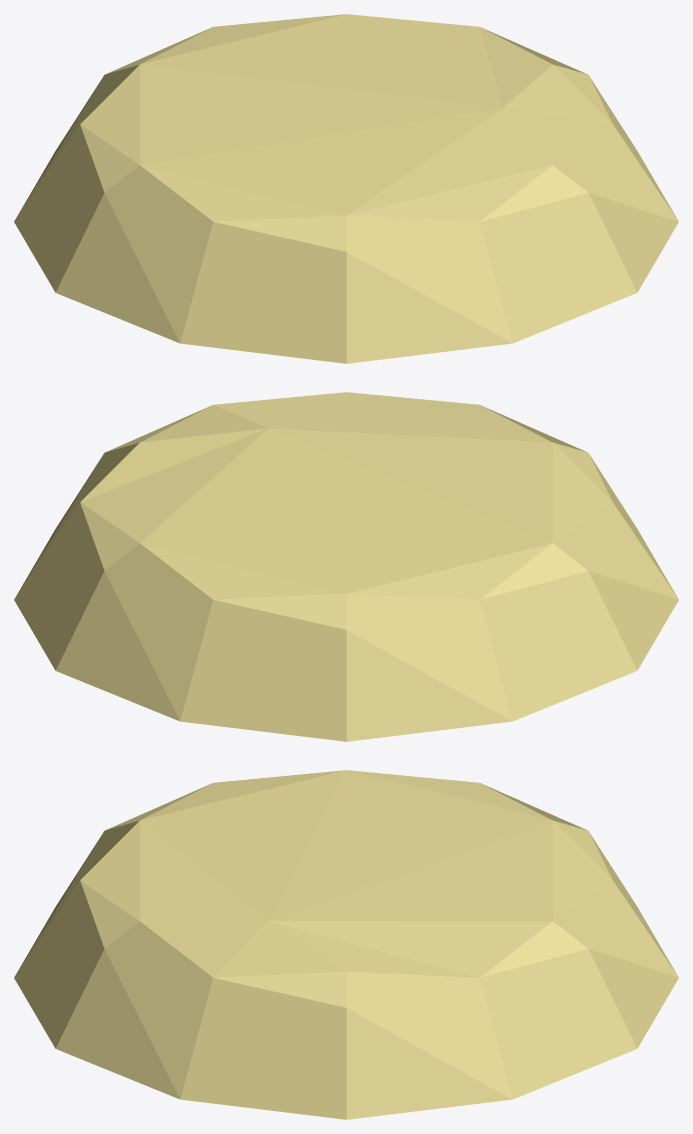
Rendered from Island.FBX.
3 views of the same model, one above another, from view 1: azimuth 30°, elevation 25°; view 2: azimuth 150°, elevation 25°; view 3: azimuth 270°, elevation 25° (orthographic).
Parts seen in each view (by area): view 1: Cylinder001; view 2: Cylinder001; view 3: Cylinder001.
Part boxes in pixels (left/top/right/bottom): Cylinder001: left=14, top=14, right=678, bottom=363; Cylinder001: left=14, top=392, right=678, bottom=741; Cylinder001: left=14, top=770, right=678, bottom=1119.
Size of the model in its own units: 47.23 by 8.85 by 46.74.
1 material, 1 textured.
